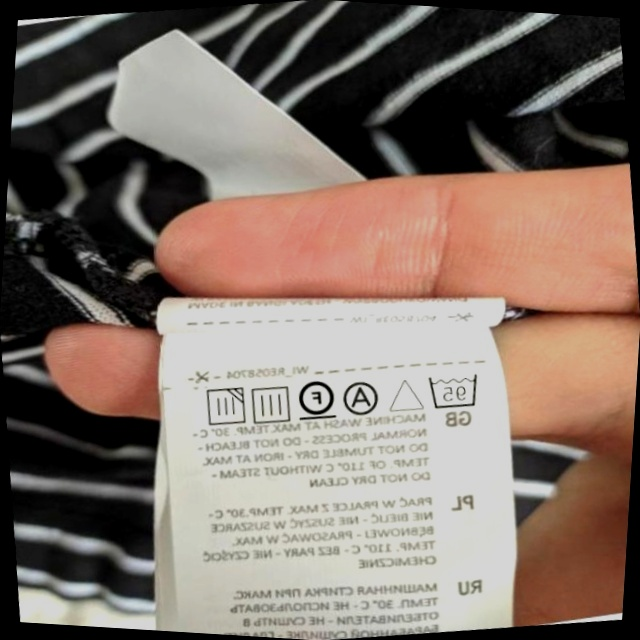95C: (423, 367, 484, 414)
bleach: (386, 371, 426, 417)
drip_dry: (246, 380, 295, 428)
drip_dry_in_shade: (198, 382, 249, 432)
dry_clean: (340, 377, 384, 419)
dry_clean_petrol_only: (293, 373, 339, 424)
